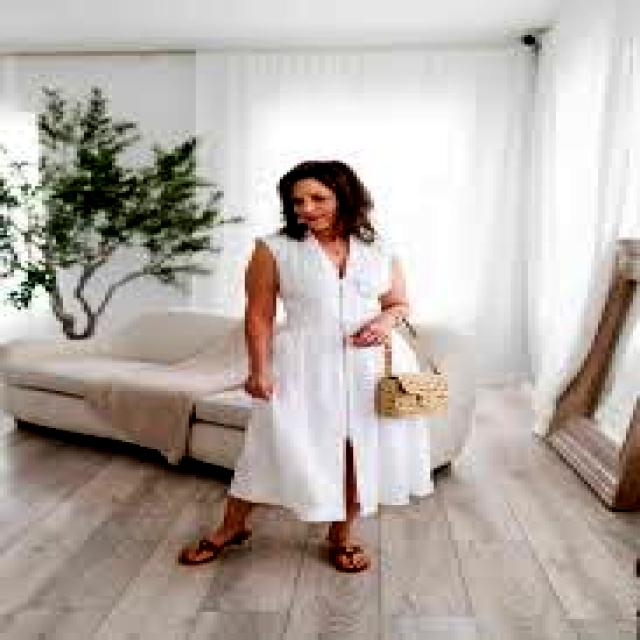dress: (231, 231, 433, 521)
